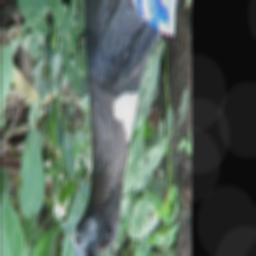Crow: (70, 0, 169, 256)
